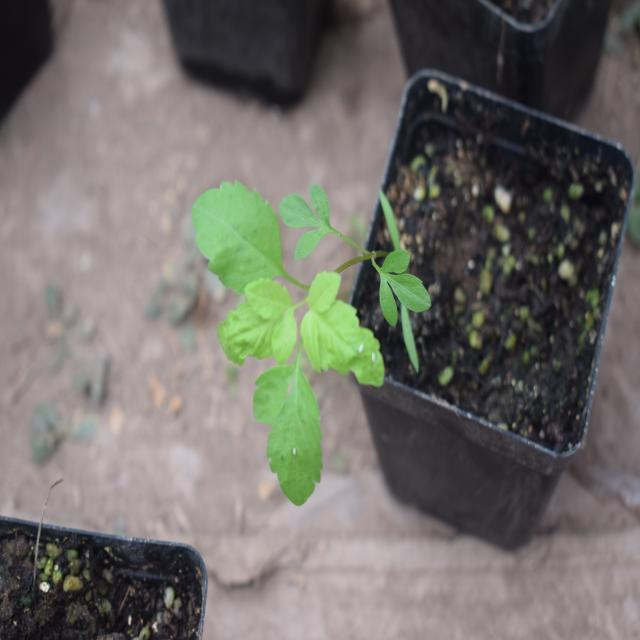Bidens pilosa: (187, 179, 431, 500)
